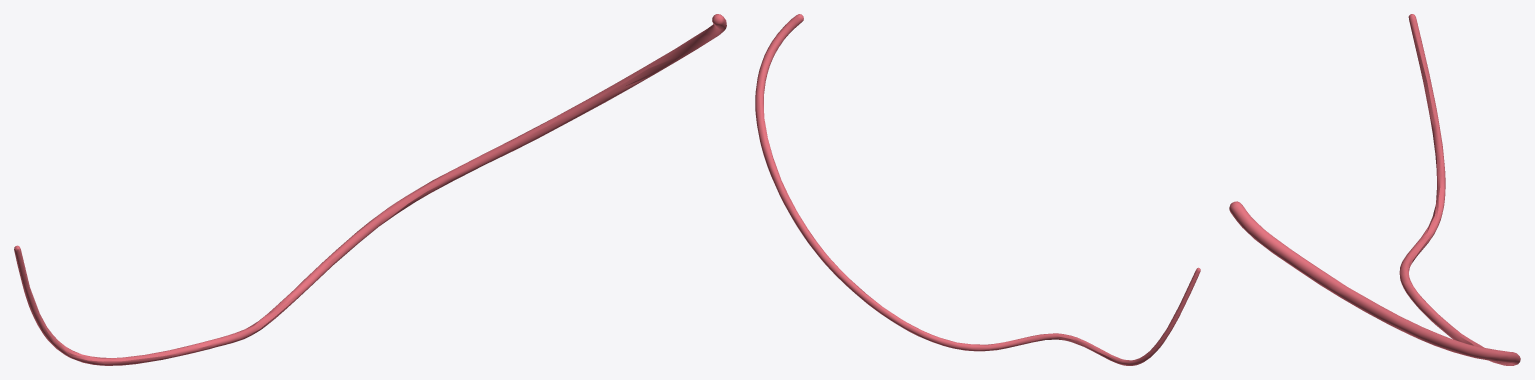
The model's file is fma50692_fj5142.glb.
3 views of the same model, side by side, from view 1: azimuth 30°, elevation 25°; view 2: azimuth 150°, elevation 25°; view 3: azimuth 270°, elevation 25° (orthographic). The views are drawn at different scales.
Parts seen in each view (by area): view 1: FMA50692_FJ5142; view 2: FMA50692_FJ5142; view 3: FMA50692_FJ5142.
Boxes of the visible parts, x1=… form: FMA50692_FJ5142: x1=14, y1=14, x2=726, y2=365; FMA50692_FJ5142: x1=755, y1=14, x2=1200, y2=365; FMA50692_FJ5142: x1=1229, y1=14, x2=1520, y2=365.
Bounding box in the file's own units: 0.0526 × 0.0233 × 0.0182.
